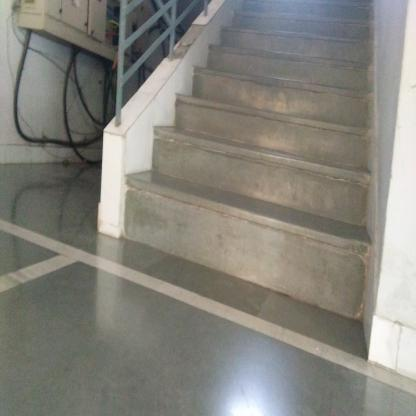stairs: (218, 15, 371, 320)
